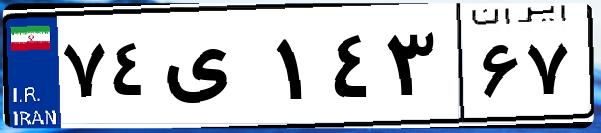1: (270, 28, 330, 110)
3: (385, 28, 445, 110)
4: (330, 28, 385, 110), (110, 28, 158, 98)
6: (475, 38, 525, 113)
7: (57, 26, 110, 100), (525, 38, 570, 115)
ی: (158, 20, 270, 120)
